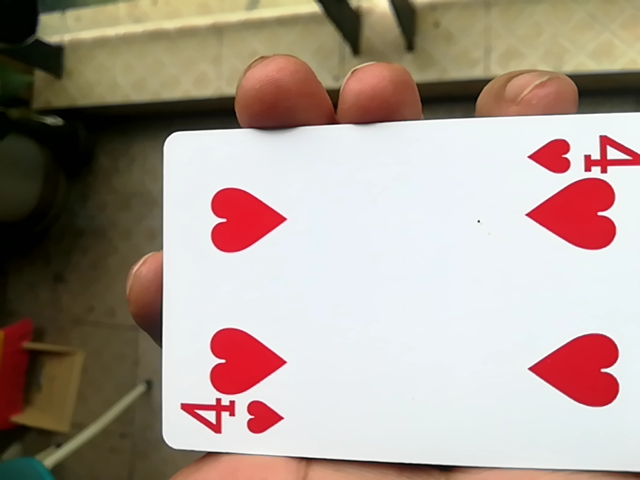hx 4: (141, 116, 640, 479)
